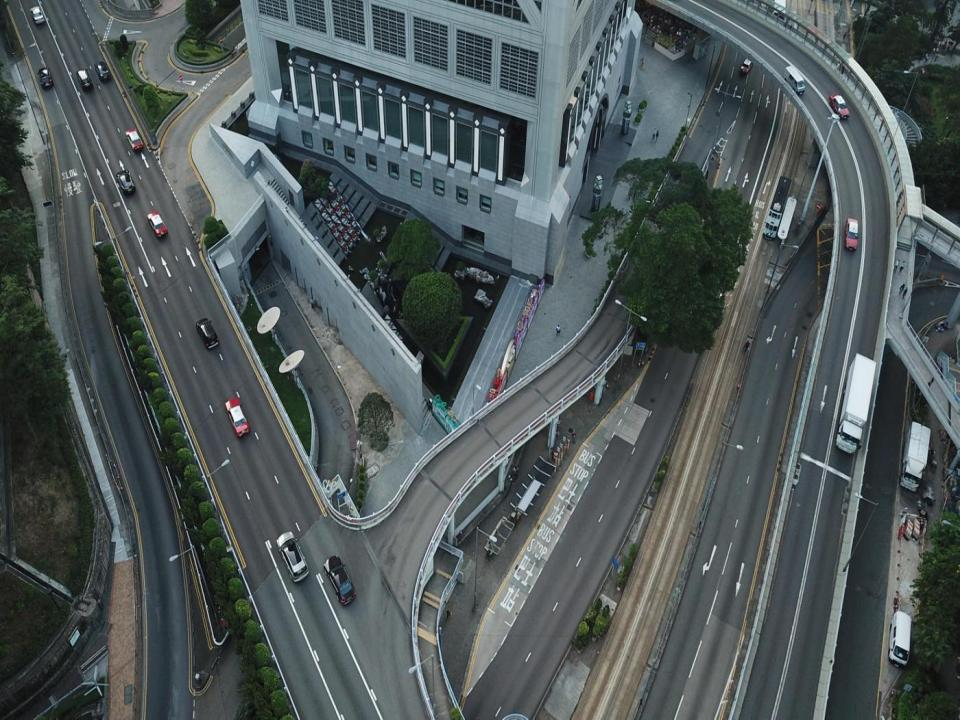bus: (759, 171, 784, 241)
car: (322, 554, 356, 605), (277, 530, 310, 582), (194, 316, 229, 352), (221, 394, 249, 436), (145, 208, 166, 238), (117, 166, 136, 198), (829, 93, 850, 121), (122, 128, 145, 153), (844, 217, 859, 251), (36, 66, 54, 90), (94, 60, 112, 84), (75, 68, 93, 90), (790, 463, 804, 490), (30, 4, 46, 25), (741, 54, 755, 74)
truck: (834, 351, 880, 456), (900, 417, 930, 490)
van: (886, 610, 916, 667), (785, 66, 806, 96)
